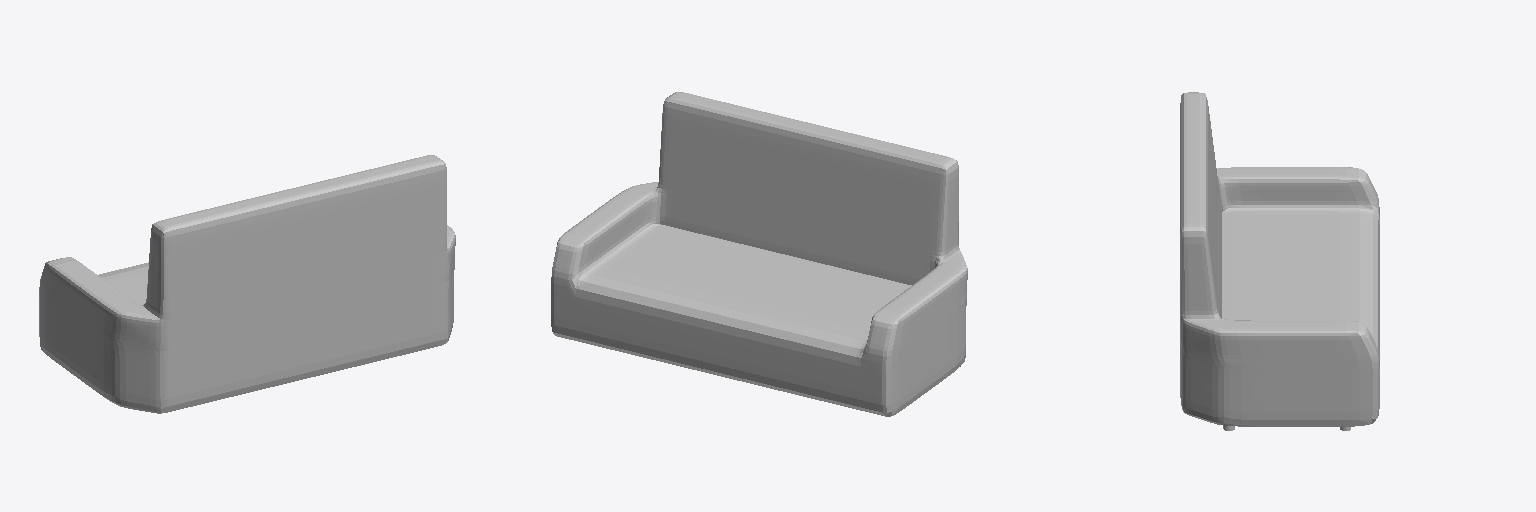
File: sofa_double.obj
3 renders of one model, left to right at view 1: azimuth 30°, elevation 25°; view 2: azimuth 150°, elevation 25°; view 3: azimuth 270°, elevation 25°, orthographic.
Parts seen in each view (by area): view 1: Sofa.002; view 2: Sofa.002; view 3: Sofa.002.
Boxes of the visible parts, <box> form: Sofa.002: <box>39,155,455,413</box>; Sofa.002: <box>551,92,967,416</box>; Sofa.002: <box>1180,92,1379,430</box>.
Bounding box in the file's own units: 10.26 × 5.53 × 5.17.